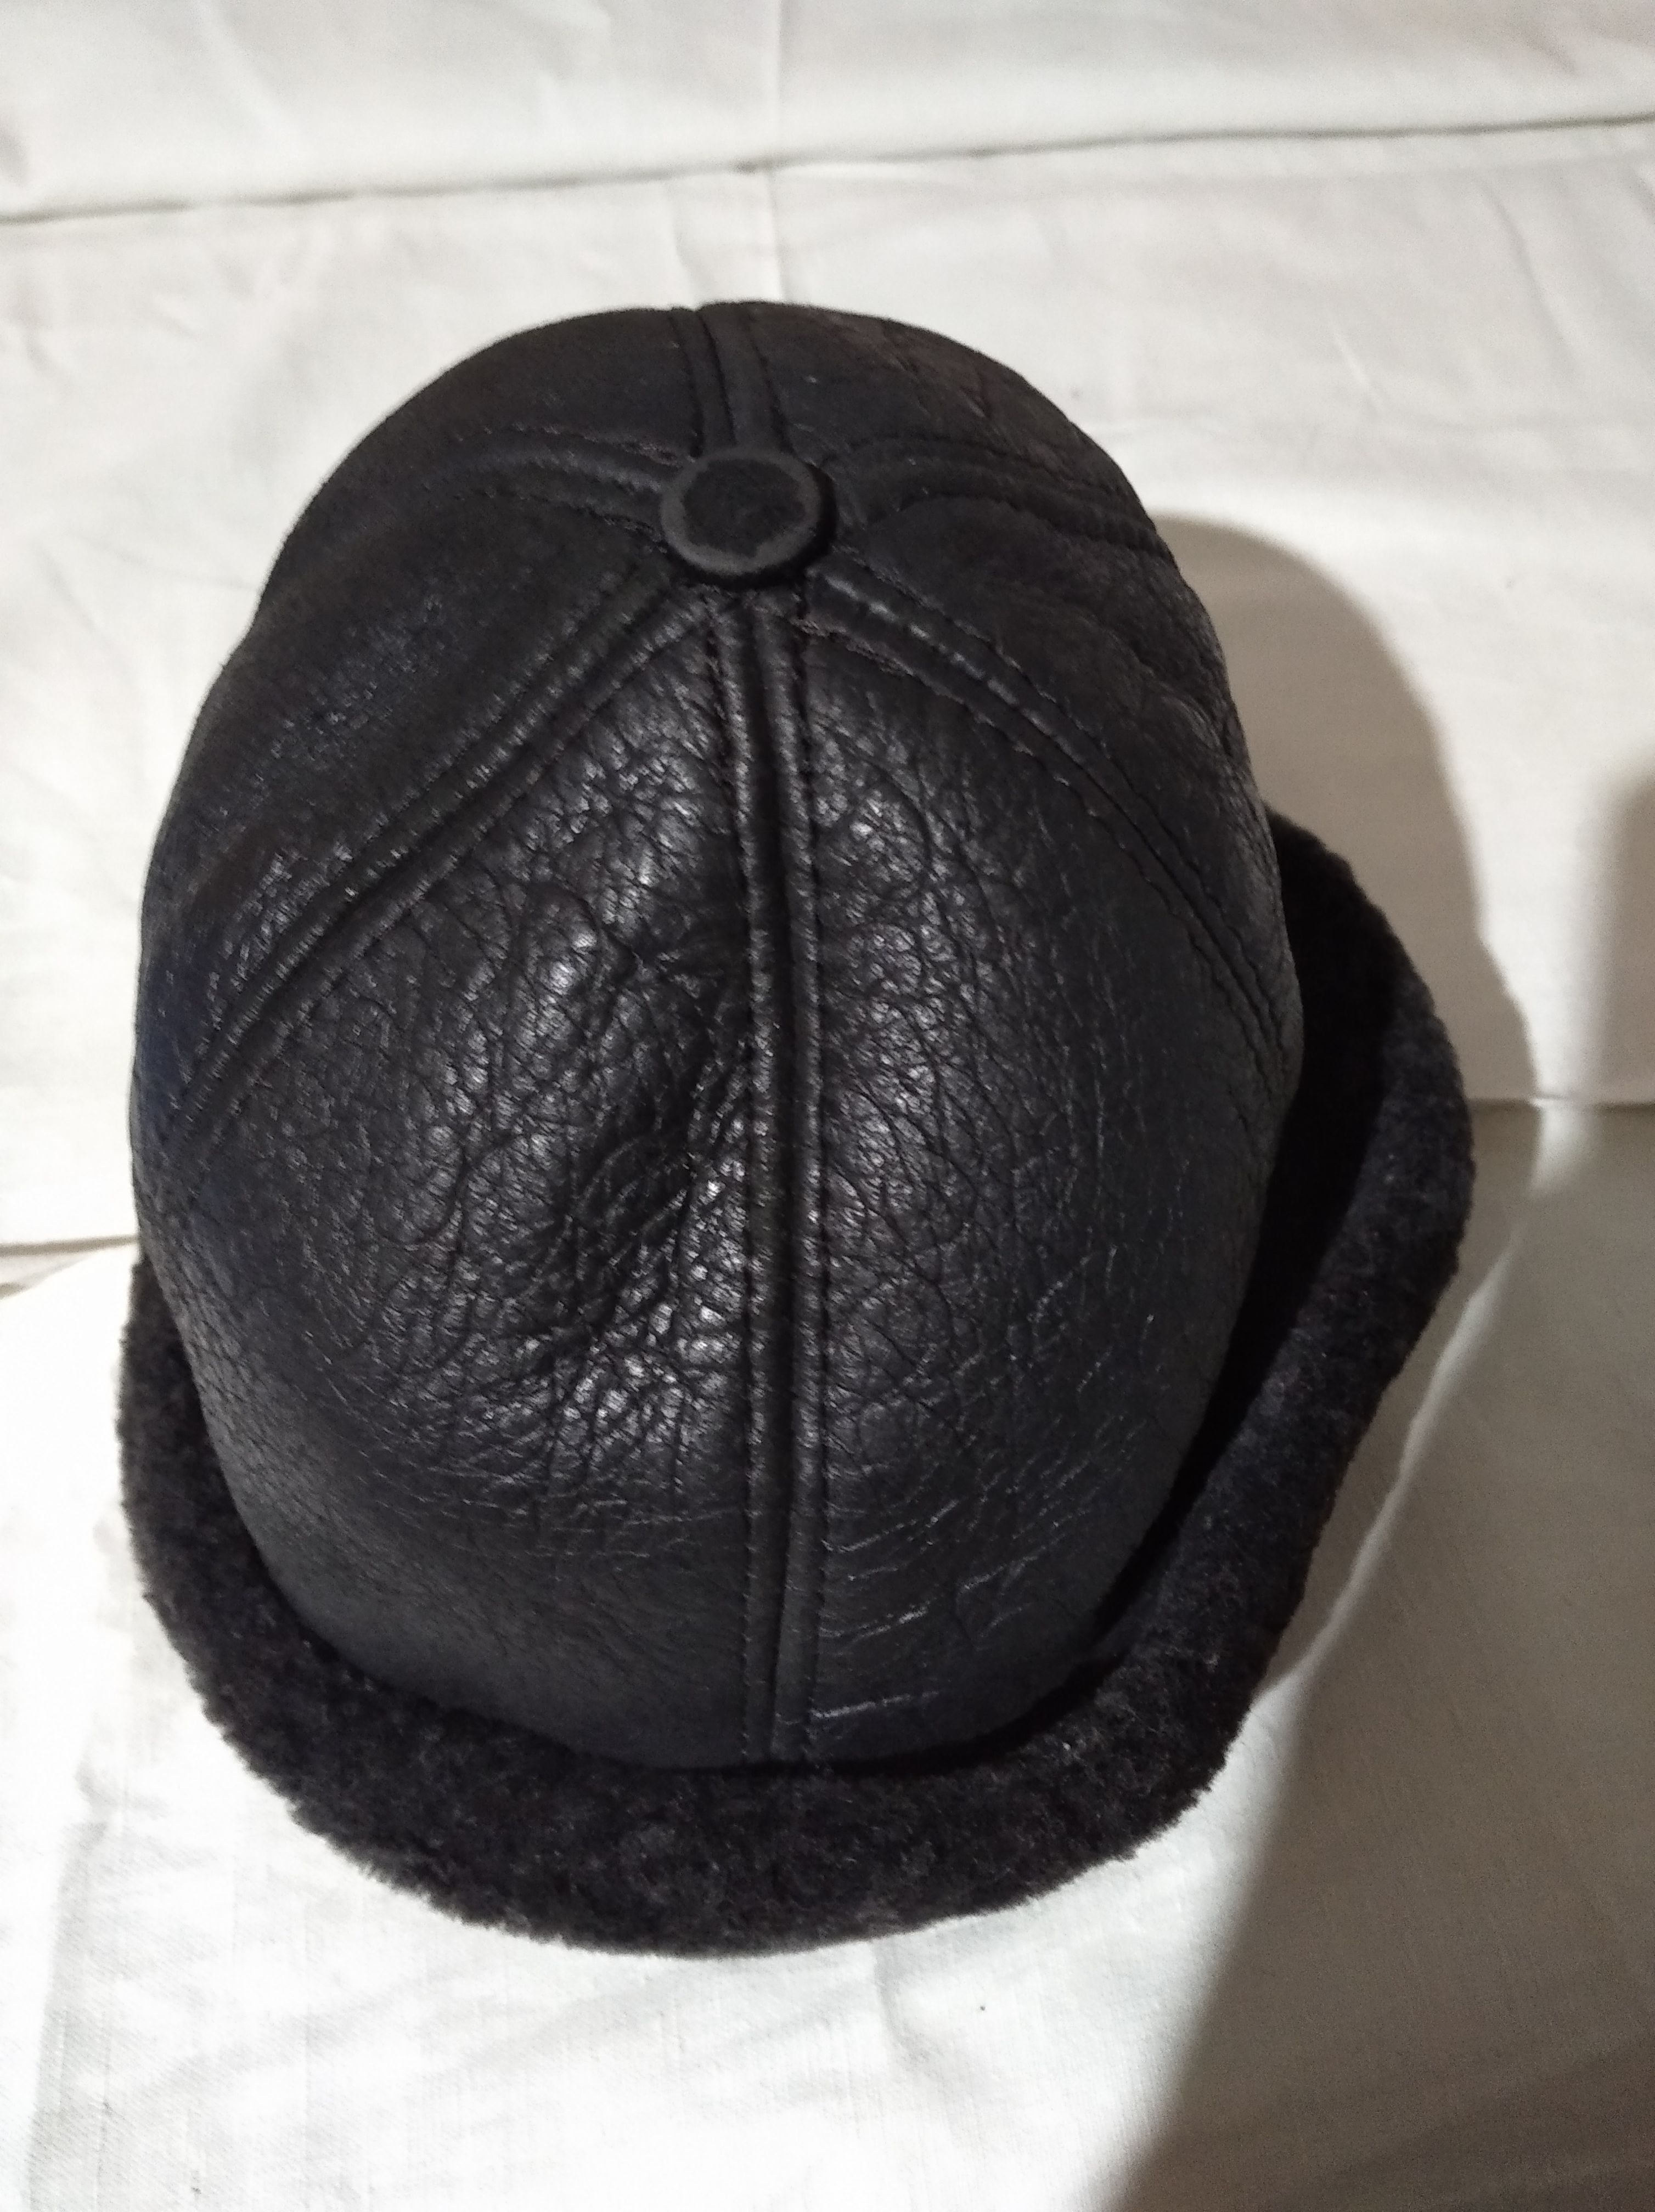clothes: (87, 280, 1485, 1983)
